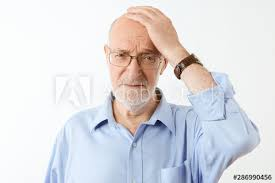white_male: (94, 24, 173, 104)
